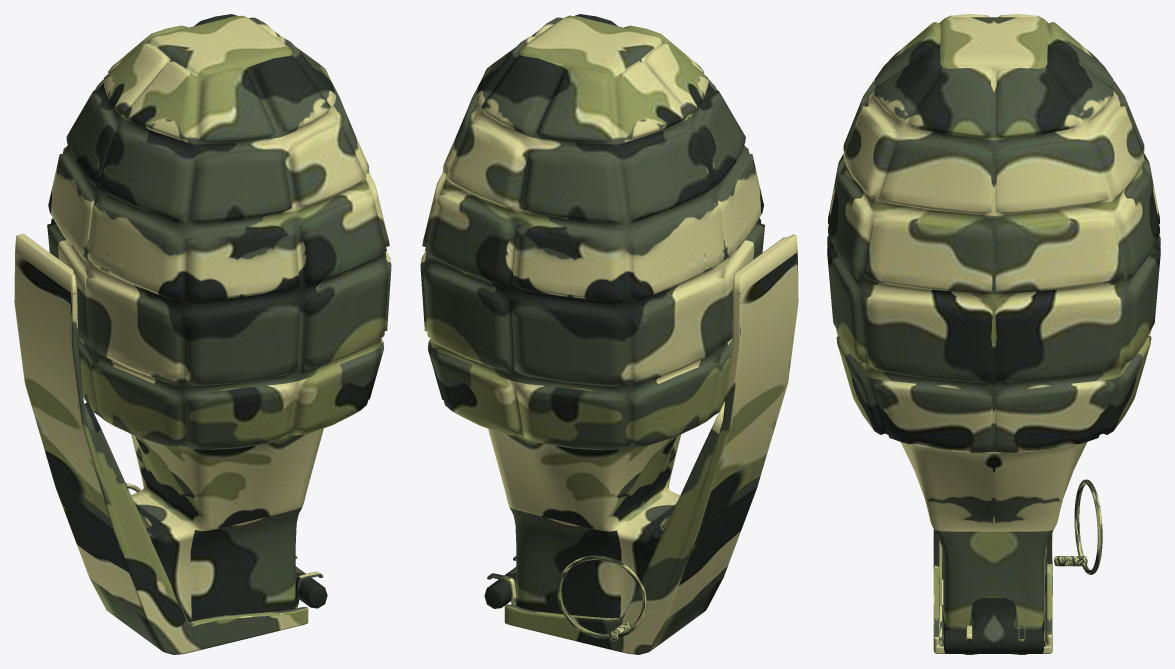
Rendered from Granada.fbx.
3 views of the same model, side by side, from view 1: azimuth 30°, elevation 25°; view 2: azimuth 150°, elevation 25°; view 3: azimuth 270°, elevation 25° (orthographic). The views are drawn at different scales.
Visible parts, largest first — view 1: Granada high poly; view 2: Granada high poly; view 3: Granada high poly.
Part boxes in pixels (box(x1,y1,x2,y2)): Granada high poly: box(14, 14, 391, 654); Granada high poly: box(420, 14, 798, 654); Granada high poly: box(827, 14, 1160, 654).
Size of the model in its own units: 290 by 262 by 509.
Materials: 1 (1 with a texture image).
